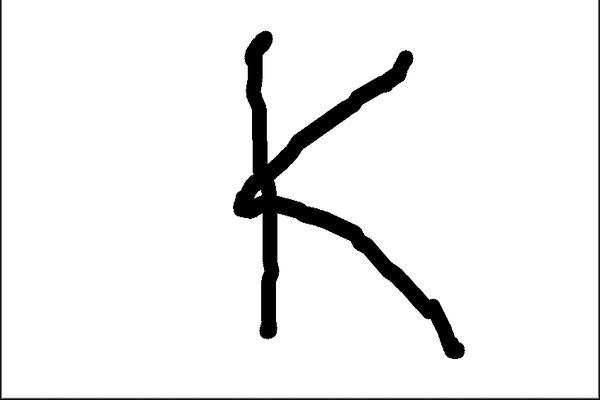K: (229, 21, 471, 364)
